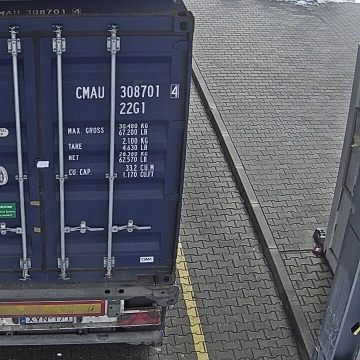serial_id: (75, 85, 177, 98)
